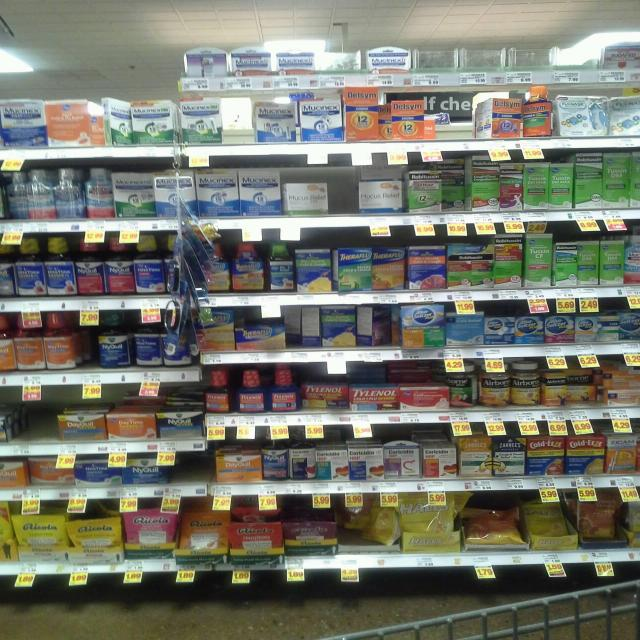empty_space: (330, 181, 365, 212), (22, 405, 51, 439)
